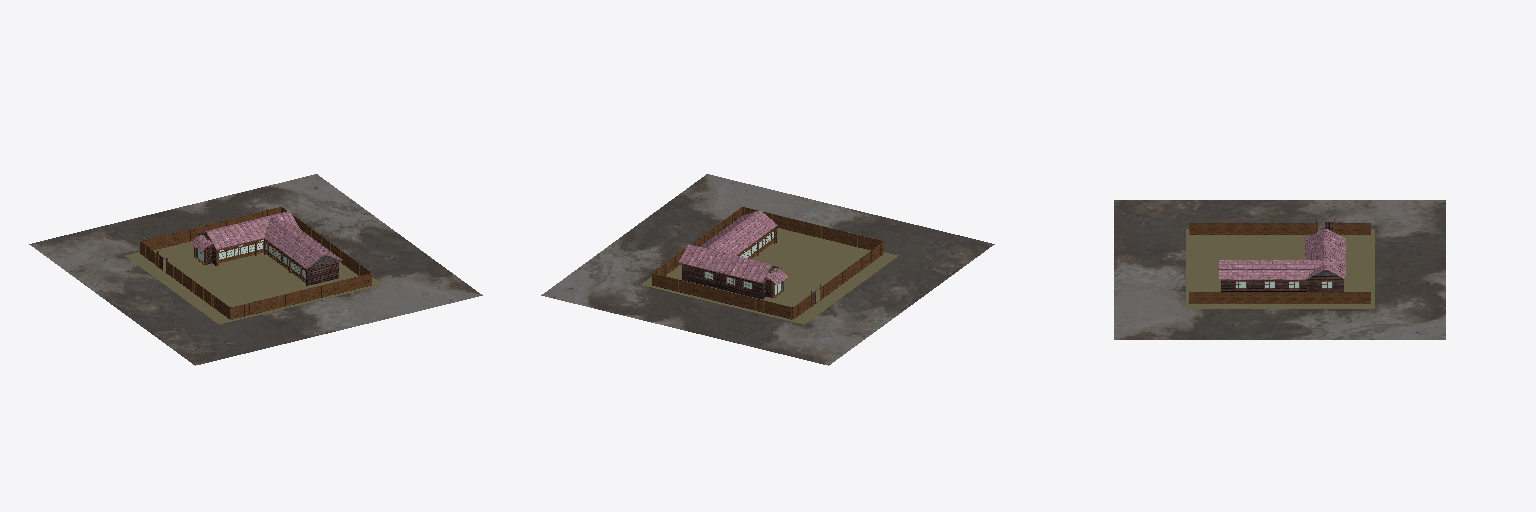
The picture shows the model from 3 angles: view 1: azimuth 30°, elevation 25°; view 2: azimuth 150°, elevation 25°; view 3: azimuth 270°, elevation 25°; orthographic projection.
Parts seen in each view (by area): view 1: yasiki+niwa.obj; view 2: yasiki+niwa.obj; view 3: yasiki+niwa.obj.
Boxes of the visible parts, <box> form: yasiki+niwa.obj: <box>29,174,482,365</box>; yasiki+niwa.obj: <box>541,174,994,365</box>; yasiki+niwa.obj: <box>1114,200,1445,339</box>.
Bounding box in the file's own units: 44.32 × 4.08 × 44.32.
40 materials, 1 textured.